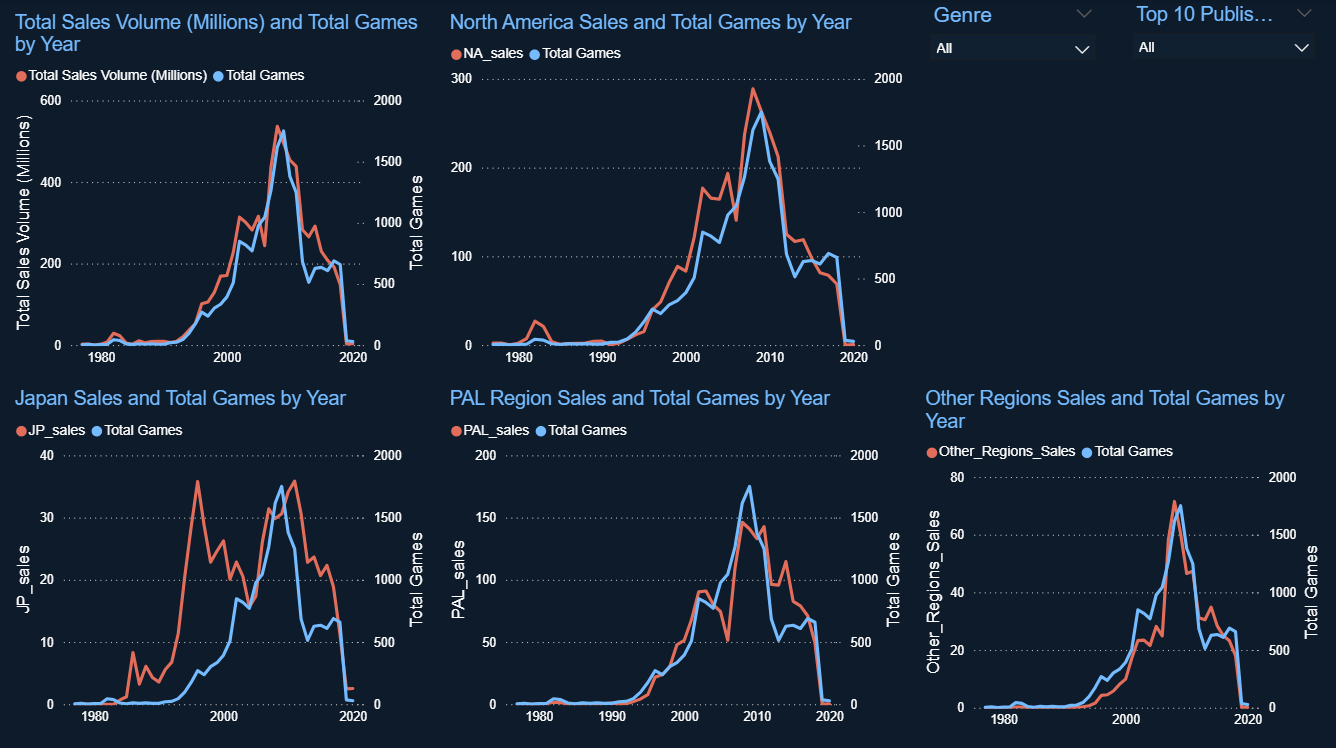

This screenshot's page, from the dashboard's own definition file:
{"tool":"powerbi","page":{"name":"Sales by Year and Publisher","canvas":[1280,720],"ordinal":3},"visuals":[{"type":"lineChart","fields":{"Category":["Fact_Games.release_date.Variation.Date Hierarchy.Year"],"Y":["_Measures.Total Sales Volume (Millions)"],"Y2":["_Measures.Total Games"]},"box":[9.9,13.3,402.5,346.2],"z":0},{"type":"lineChart","title":"PAL Region Sales and Total Games by Year","fields":{"Category":["Fact_Games.release_date.Variation.Date Hierarchy.Year"],"Y":["_Measures.EU_sales"],"Y2":["_Measures.Total Games"]},"box":[425.7,372.7,442.3,329.6],"z":1000},{"type":"lineChart","title":"Japan Sales and Total Games by Year","fields":{"Category":["Fact_Games.release_date.Variation.Date Hierarchy.Year"],"Y":["_Measures.JP_sales"],"Y2":["_Measures.Total Games"]},"box":[9.9,372.7,402.5,329.6],"z":2000},{"type":"lineChart","title":"North America Sales and Total Games by Year","fields":{"Category":["Fact_Games.release_date.Variation.Date Hierarchy.Year"],"Y":["_Measures.US_sales"],"Y2":["_Measures.Total Games"]},"box":[425.7,13.3,442.3,346.2],"z":3000},{"type":"lineChart","title":"Other Regions Sales and Total Games by Year","fields":{"Category":["Fact_Games.release_date.Variation.Date Hierarchy.Year"],"Y":["_Measures.Other_Regions_Sales"],"Y2":["_Measures.Total Games"]},"box":[879.6,372.7,387.6,333],"z":4000},{"type":"slicer","fields":{"Values":["Dim_Publisher.publisher"]},"box":[1073.5,0,193.6,87.8],"z":5000},{"type":"slicer","fields":{"Values":["Dim_Genre.genre"]},"box":[880,0,177.3,87.8],"z":6000}]}

Visuals, with their boxes in screenshot pixels (x1, y1, x2, y2), scaled from the page's 1280x720 canvas onto the 1336x748 screenshot:
lineChart - Fact_Games.release_date.Variation.Date Hierarchy.Year x _Measures.Total Sales Volume (Millions): detection(10, 14, 430, 373)
"PAL Region Sales and Total Games by Year" lineChart: detection(444, 387, 906, 730)
"Japan Sales and Total Games by Year" lineChart: detection(10, 387, 430, 730)
"North America Sales and Total Games by Year" lineChart: detection(444, 14, 906, 373)
"Other Regions Sales and Total Games by Year" lineChart: detection(918, 387, 1323, 733)
slicer - Dim_Publisher.publisher: detection(1120, 0, 1323, 91)
slicer - Dim_Genre.genre: detection(918, 0, 1104, 91)
